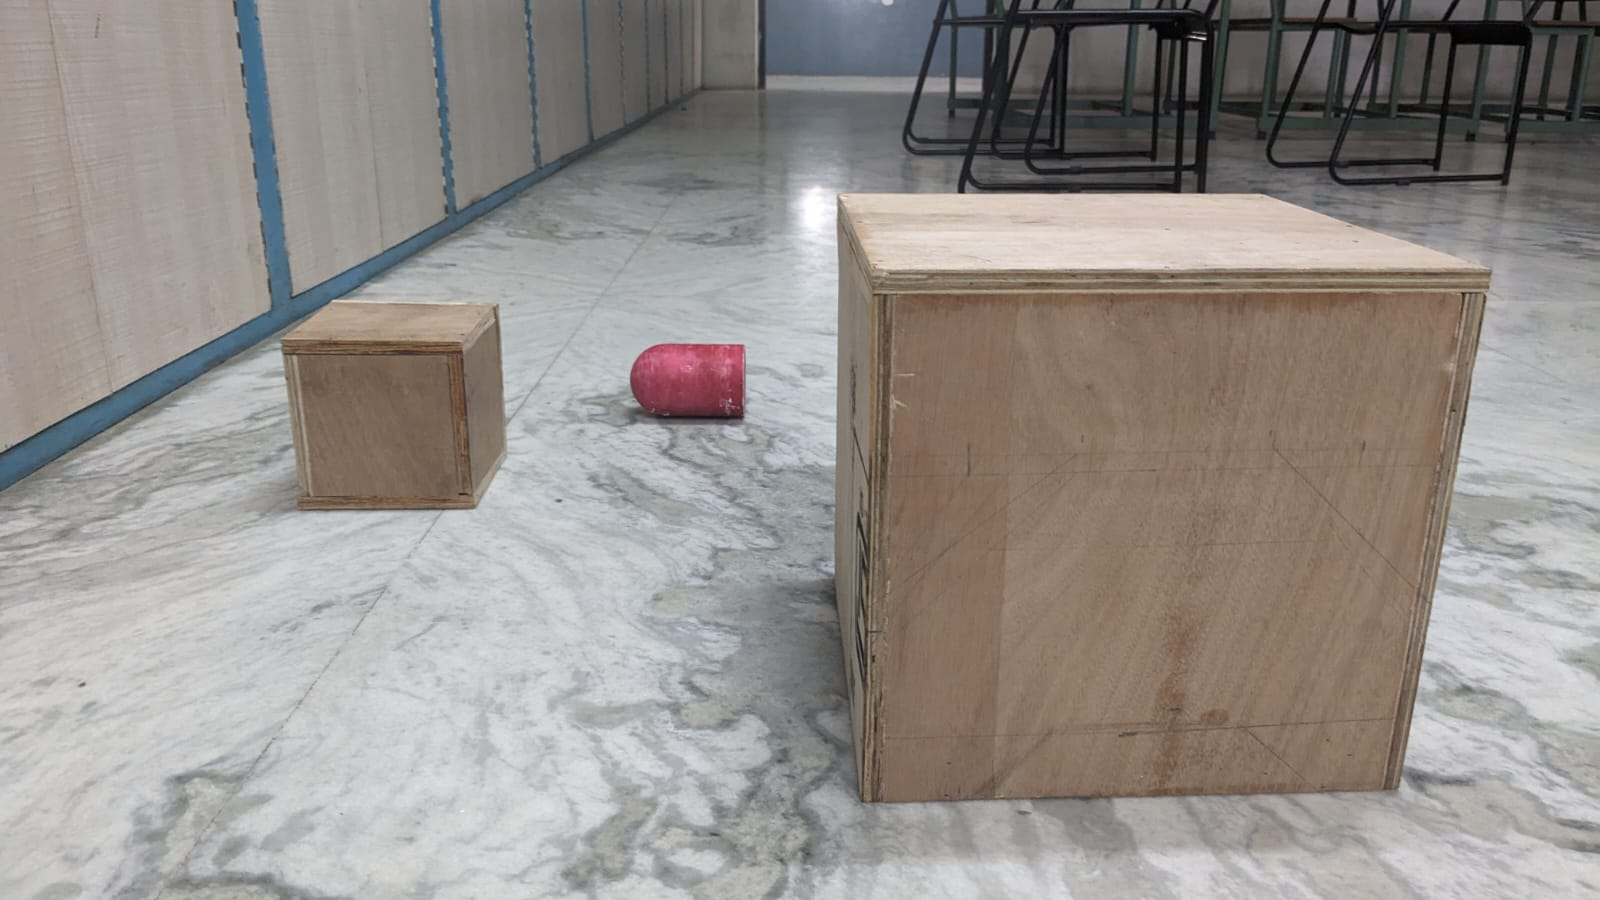150mm obstacle: (253, 296, 525, 530)
300mm obstacle: (793, 165, 1510, 824)
testtube: (615, 330, 768, 427)
